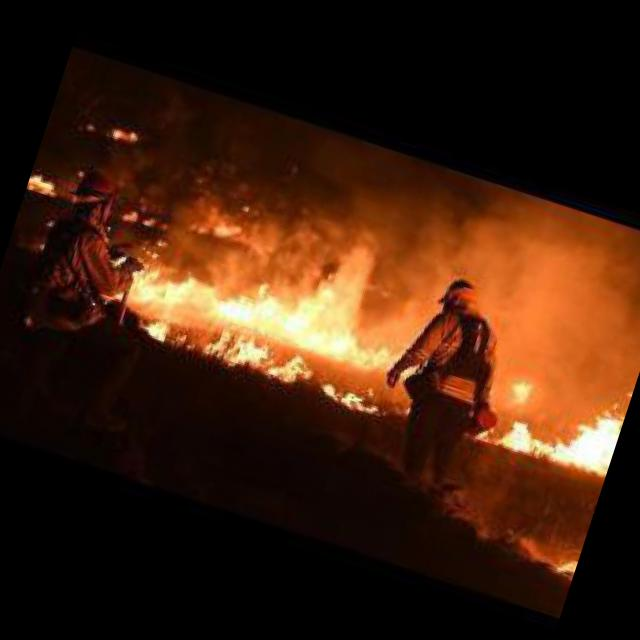fire: (87, 159, 458, 425), (472, 357, 630, 482)
